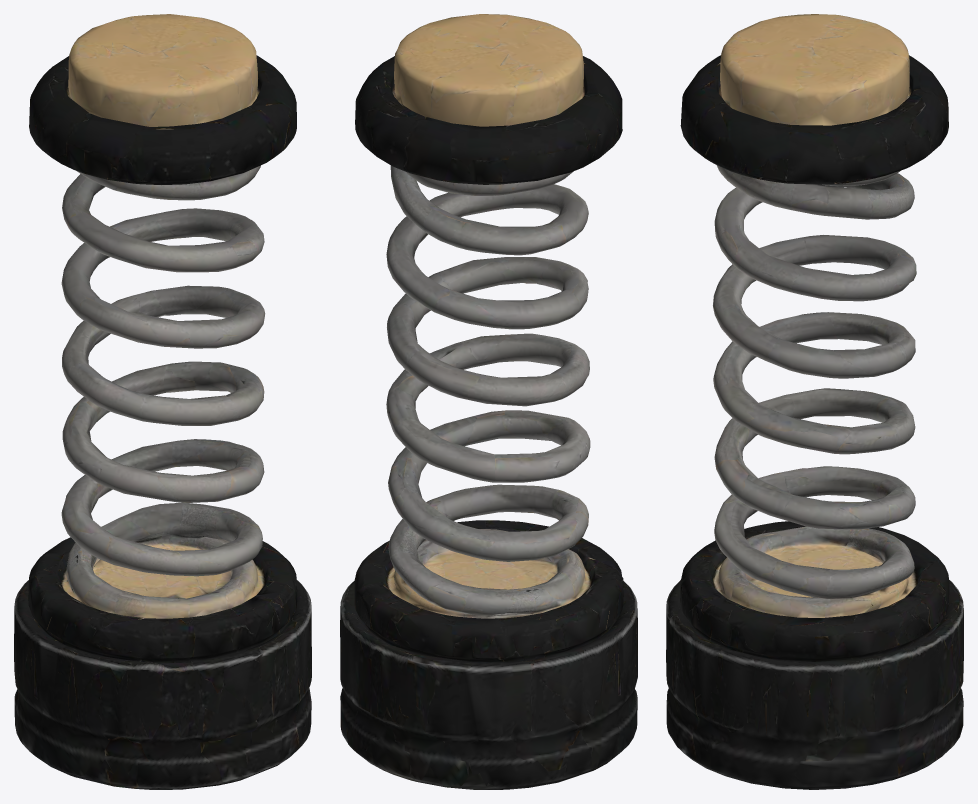
Rendered from resorte.glb.
The picture shows the model from 3 angles, left to right: view 1: azimuth 30°, elevation 25°; view 2: azimuth 150°, elevation 25°; view 3: azimuth 270°, elevation 25°; orthographic projection.
Bounding box in the file's own units: 0.754 × 1.9 × 0.7541.
Materials: 1 (1 with a texture image).
